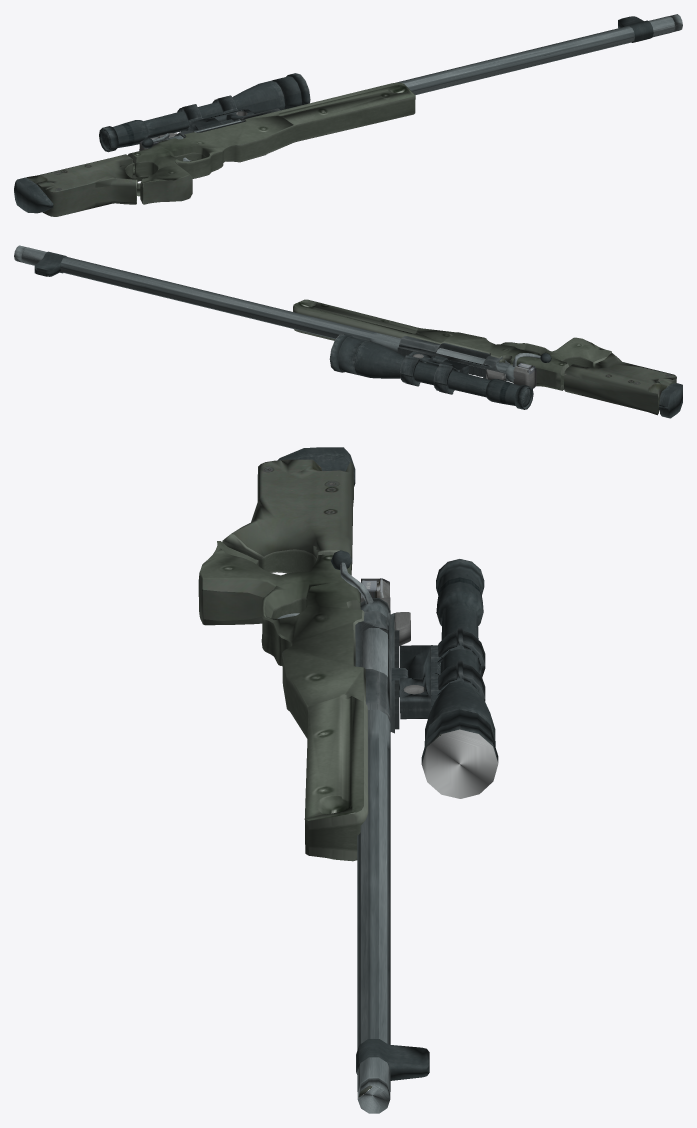
The model's file is awm.dae.
3 views of the same model, one above another, from view 1: azimuth 30°, elevation 25°; view 2: azimuth 150°, elevation 25°; view 3: azimuth 270°, elevation 25° (orthographic). The views are drawn at different scales.
Parts seen in each view (by area): view 1: Object03; view 2: Object03; view 3: Object03.
Part boxes in pixels (box(x1,y1,x2,y2)): Object03: box(14, 14, 682, 216); Object03: box(14, 245, 682, 418); Object03: box(198, 447, 498, 1113).
Size of the model in its own units: 372 by 74.91 by 20.81.
1 material, 1 textured.
